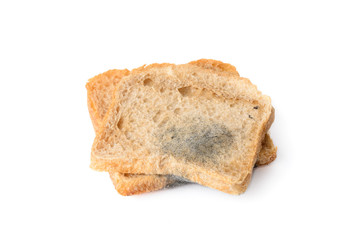mold_bread: (163, 114, 243, 167), (158, 172, 202, 192)
